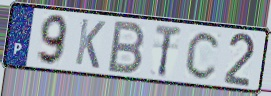2: (223, 31, 256, 88)
9: (35, 13, 69, 68)
B: (105, 19, 148, 76)
C: (183, 29, 223, 81)
K: (73, 17, 107, 71)
T: (153, 23, 183, 79)
